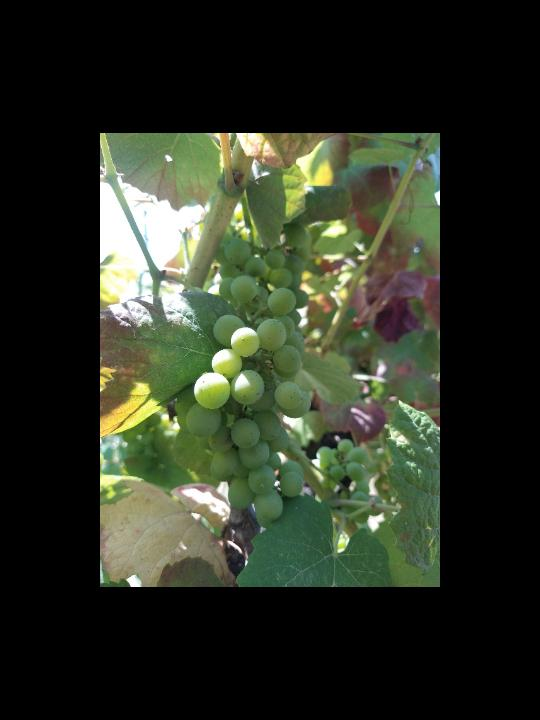grape: (186, 274, 307, 528)
